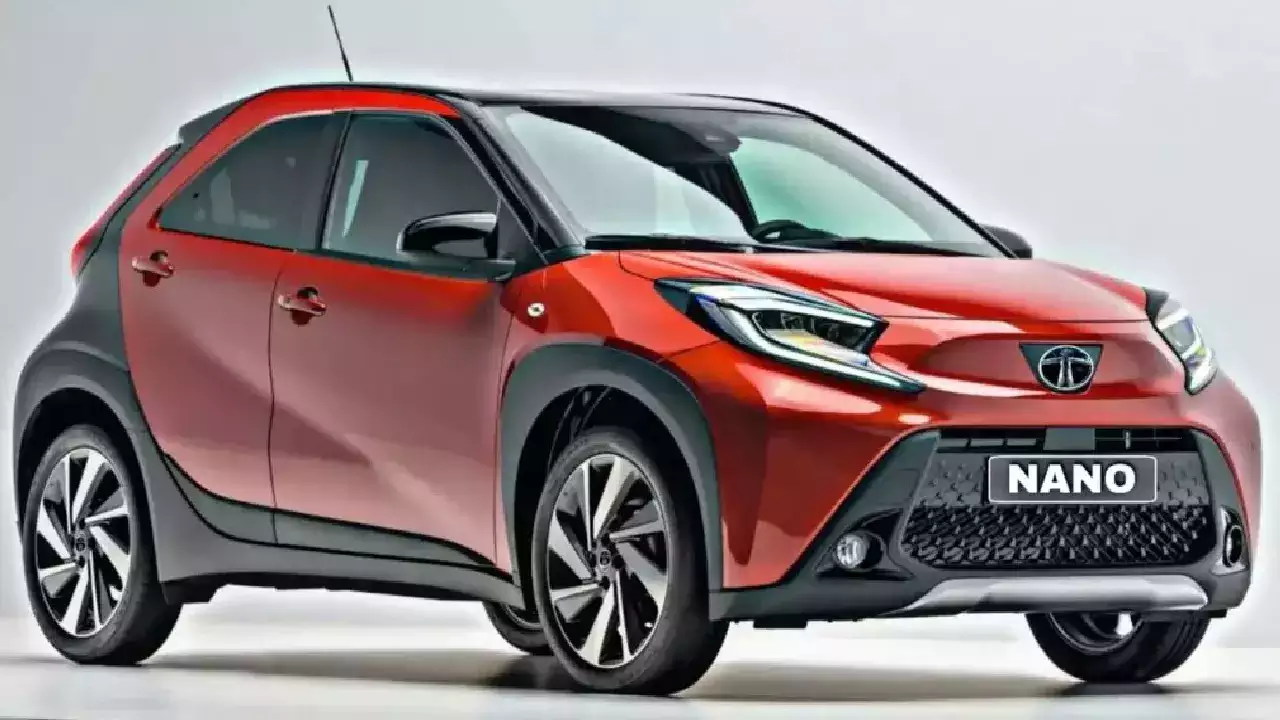Nano: (11, 79, 1264, 699)
